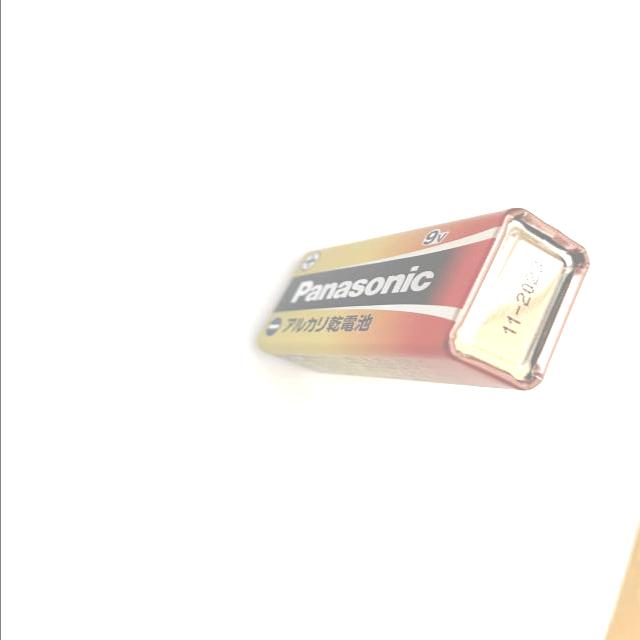9V: (258, 206, 590, 392)
